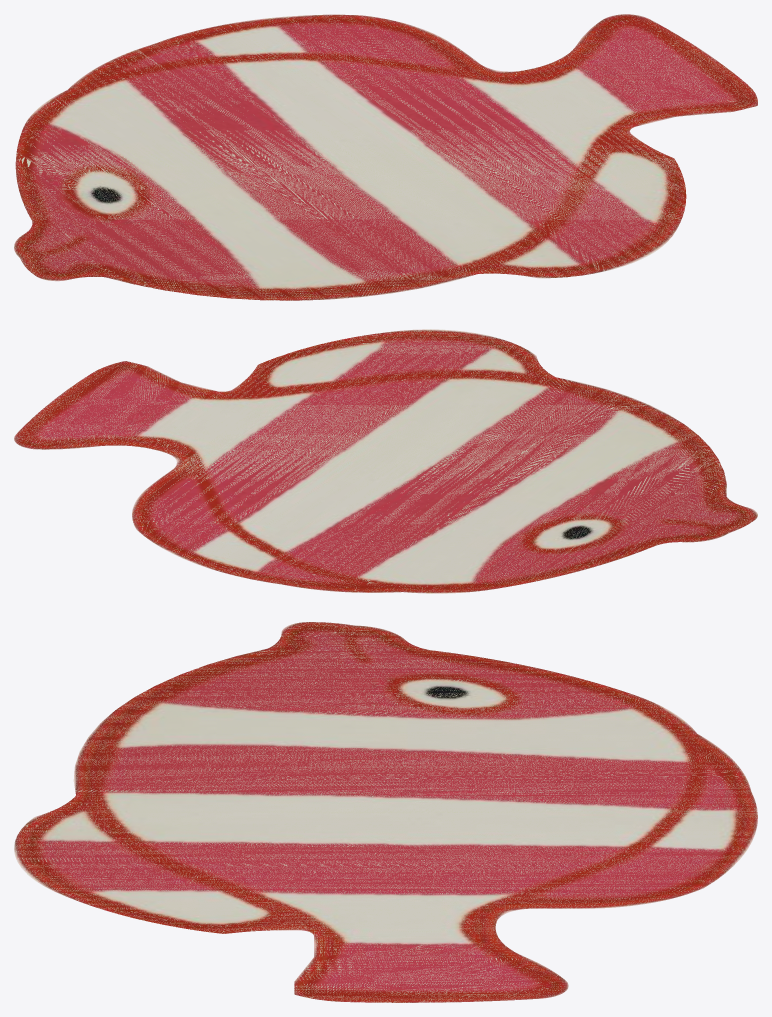
3 renders of one model, top to bottom at view 1: azimuth 30°, elevation 25°; view 2: azimuth 150°, elevation 25°; view 3: azimuth 270°, elevation 25°, orthographic. The views are drawn at different scales.
Visible parts, largest first — view 1: SketchUp; view 2: SketchUp; view 3: SketchUp.
Part boxes in pixels (x1,y1,x2,y2): SketchUp: [14, 14, 757, 300]; SketchUp: [14, 329, 757, 593]; SketchUp: [14, 622, 757, 1002].
Bounding box in the file's own units: 31.28 × 25.83 × 0.
2 materials, 1 textured.
